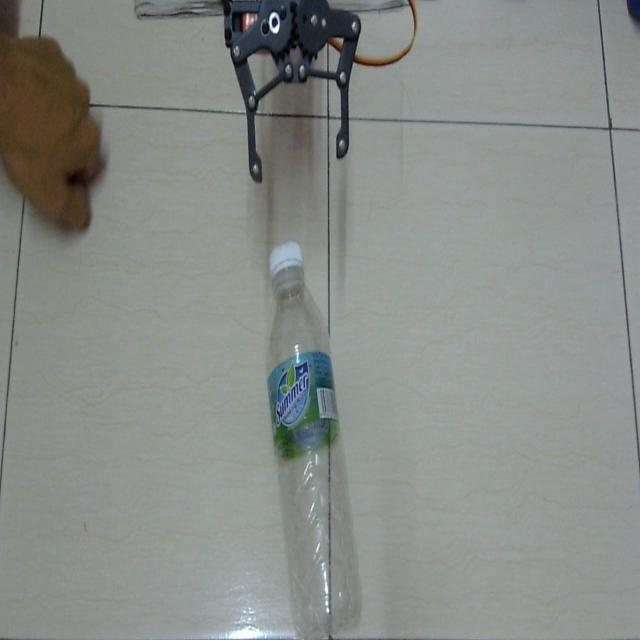Plastic-laydown_0-rotation: (258, 238, 368, 638)
